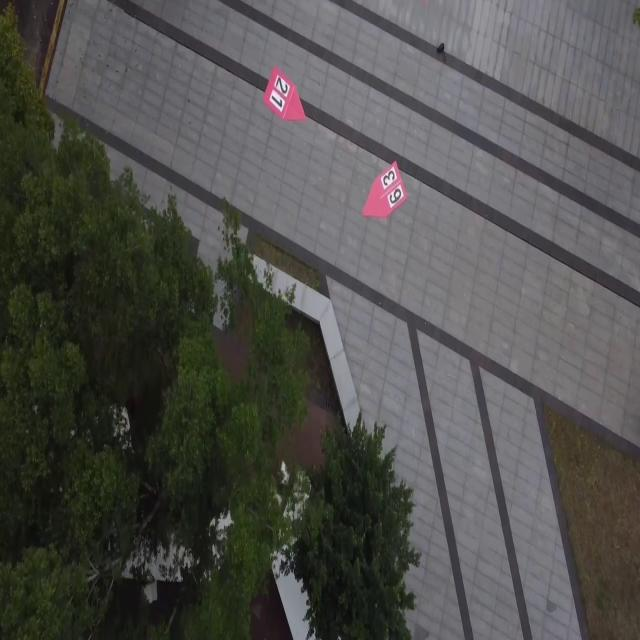-sign-: (361, 158, 407, 219), (263, 65, 307, 123)
